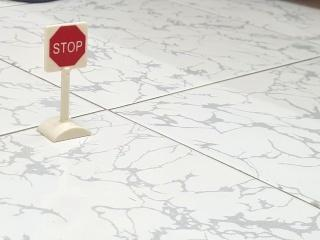stop: (37, 22, 97, 78)
